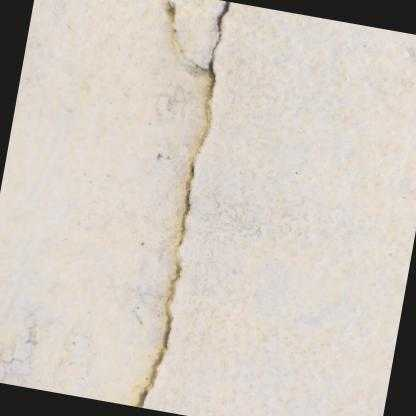crack: (135, 0, 231, 407)
